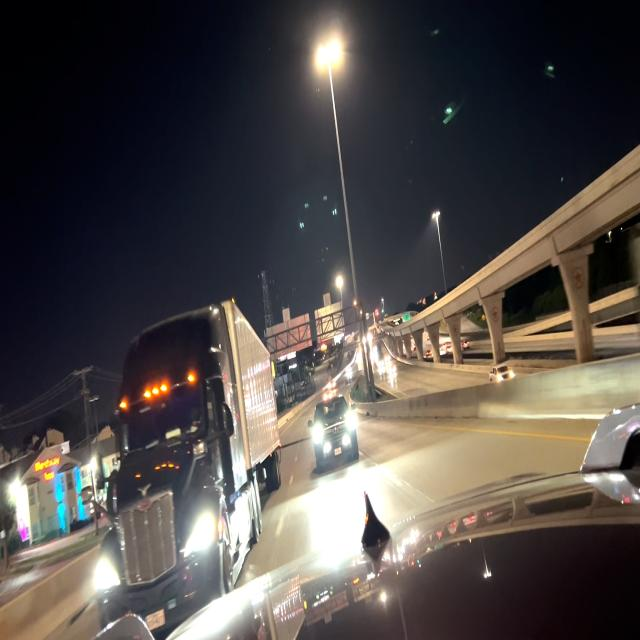back-of-sign: (265, 305, 312, 363), (315, 291, 345, 347)
